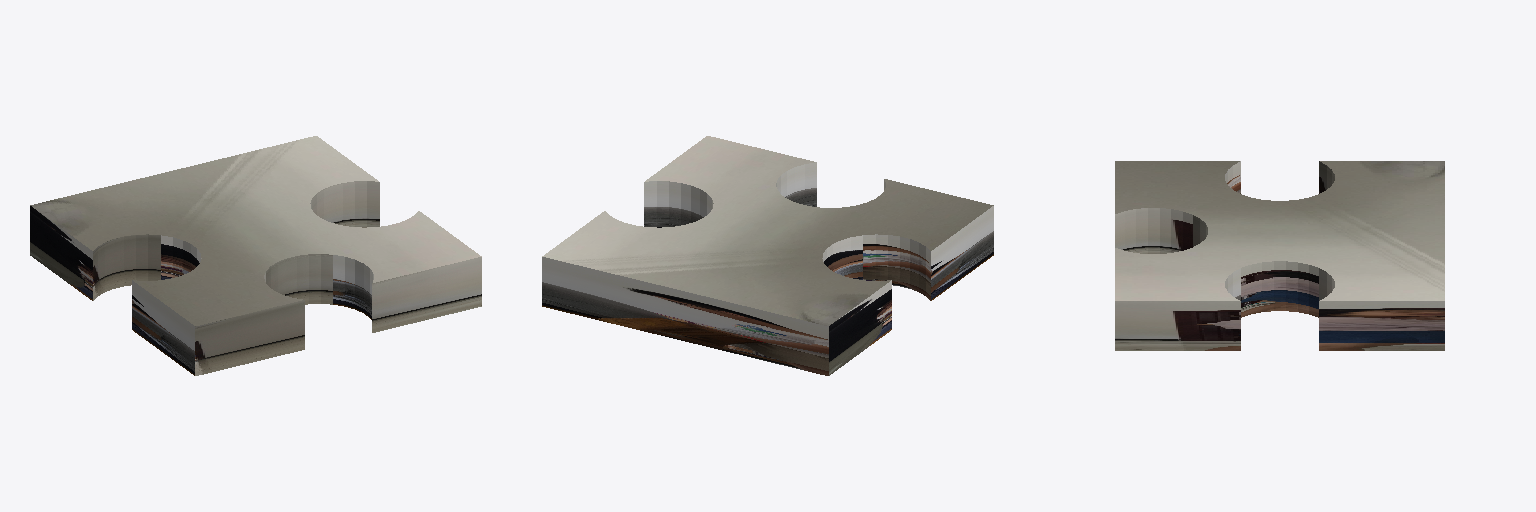
The picture shows the model from 3 angles: view 1: azimuth 30°, elevation 25°; view 2: azimuth 150°, elevation 25°; view 3: azimuth 270°, elevation 25°; orthographic projection.
Visible parts, largest first — view 1: ͼ��016; view 2: ͼ��016; view 3: ͼ��016.
Part boxes in pixels (x1,y1,x2,y2): ͼ��016: (30,136,481,375); ͼ��016: (542,136,993,375); ͼ��016: (1115,161,1444,350).
Bounding box in the file's own units: 30 × 5 × 30.
1 materials, 1 textured.